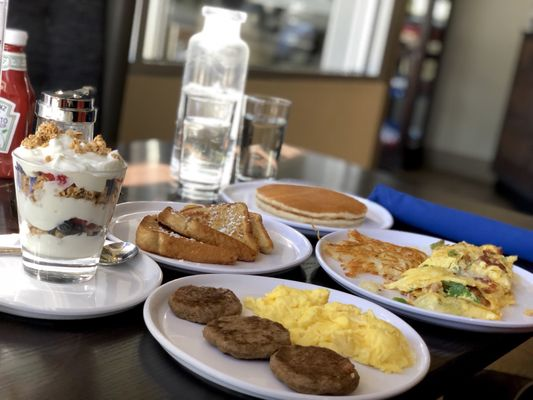pizza: (11, 130, 129, 284), (177, 91, 242, 202), (236, 94, 294, 182)
soup: (380, 240, 519, 321)
